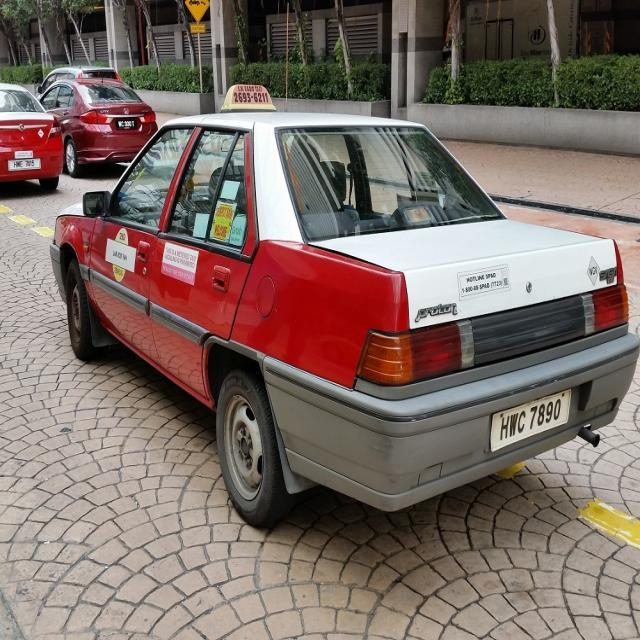car-plate: (490, 379, 574, 471), (4, 155, 44, 175), (114, 118, 142, 130)
